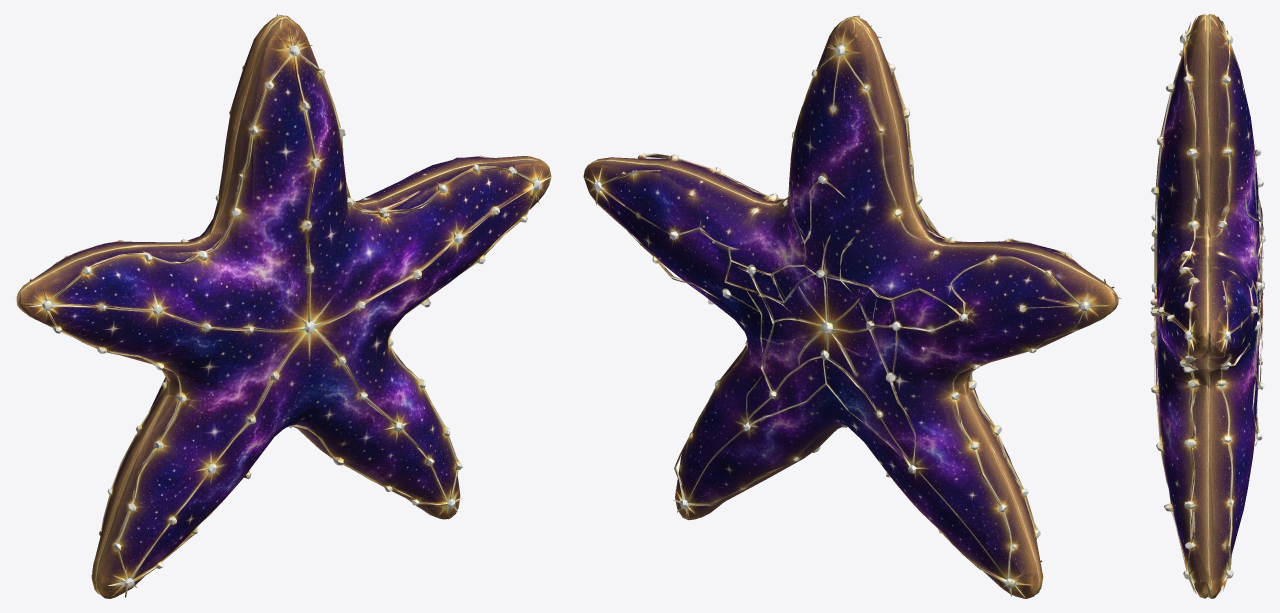
The model's file is moth.glb.
3 renders of one model, left to right at view 1: azimuth 30°, elevation 25°; view 2: azimuth 150°, elevation 25°; view 3: azimuth 270°, elevation 25°, orthographic. The views are drawn at different scales.
Bounding box in the file's own units: 1.9 × 1.85 × 0.3809.
Materials: 1 (1 with a texture image).
